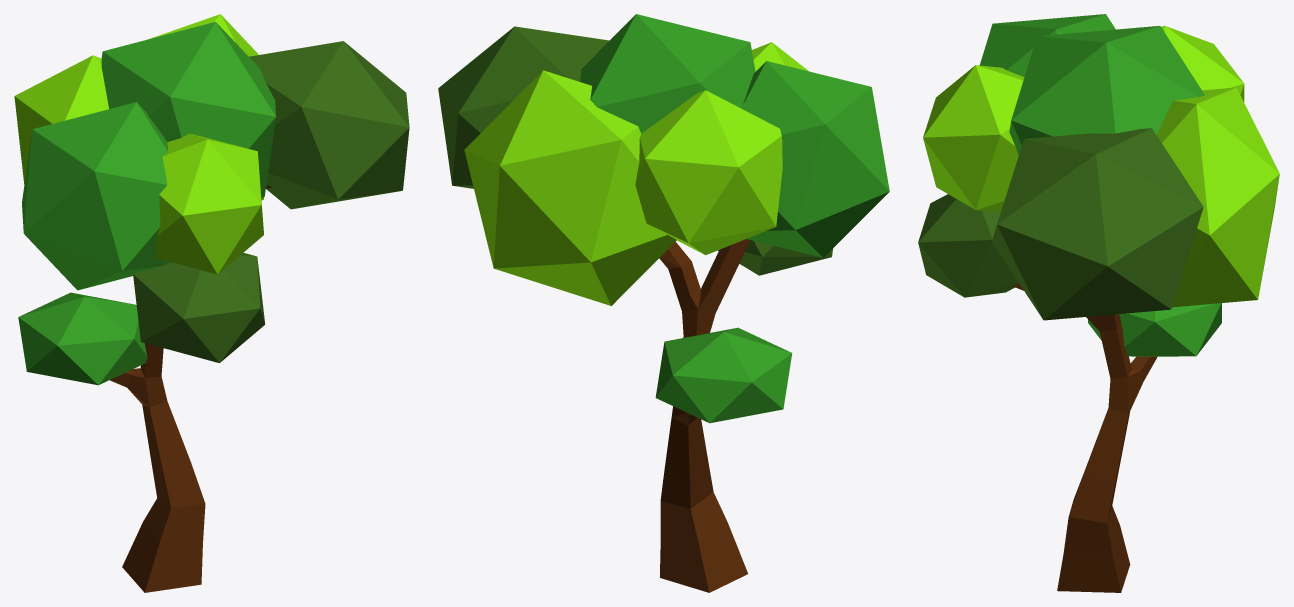
File: tree.glb
The picture shows the model from 3 angles, left to right: view 1: azimuth 30°, elevation 25°; view 2: azimuth 150°, elevation 25°; view 3: azimuth 270°, elevation 25°; orthographic projection. The views are drawn at different scales.
Visible parts, largest first — view 1: Icosphere.014, Icosphere.011, Icosphere.012, Icosphere.015, Cube, Icosphere.016, Icosphere.009, Icosphere.010, Icosphere.013; view 2: Icosphere.013, Icosphere.014, Icosphere.010, Cube, Icosphere.012, Icosphere.011, Icosphere.009, Icosphere.016, Icosphere.015; view 3: Icosphere.011, Icosphere.013, Icosphere.012, Cube, Icosphere.015, Icosphere.016, Icosphere.009, Icosphere.014, Icosphere.010.
Part boxes in pixels (<box>): Icosphere.014: <box>22,102,168,290</box>; Icosphere.011: <box>249,41,409,209</box>; Icosphere.012: <box>101,22,276,197</box>; Icosphere.015: <box>155,133,263,274</box>; Cube: <box>110,185,272,592</box>; Icosphere.016: <box>133,253,265,362</box>; Icosphere.009: <box>18,292,147,385</box>; Icosphere.010: <box>14,55,108,184</box>; Icosphere.013: <box>150,14,263,200</box>; Icosphere.013: <box>464,70,676,305</box>; Icosphere.014: <box>742,61,889,257</box>; Icosphere.010: <box>635,90,782,255</box>; Cube: <box>659,239,750,592</box>; Icosphere.012: <box>580,14,755,133</box>; Icosphere.011: <box>438,26,609,188</box>; Icosphere.009: <box>655,327,792,423</box>; Icosphere.016: <box>718,240,832,275</box>; Icosphere.015: <box>752,42,808,71</box>; Icosphere.011: <box>992,128,1203,320</box>; Icosphere.013: <box>1156,87,1279,307</box>; Icosphere.012: <box>1009,26,1204,155</box>; Cube: <box>1012,283,1157,592</box>; Icosphere.015: <box>923,65,1024,212</box>; Icosphere.016: <box>918,194,1018,297</box>; Icosphere.009: <box>1088,303,1221,356</box>; Icosphere.014: <box>980,14,1115,76</box>; Icosphere.010: <box>1161,25,1244,102</box>.
Size of the model in its own units: 32.86 by 41.06 by 23.71.
